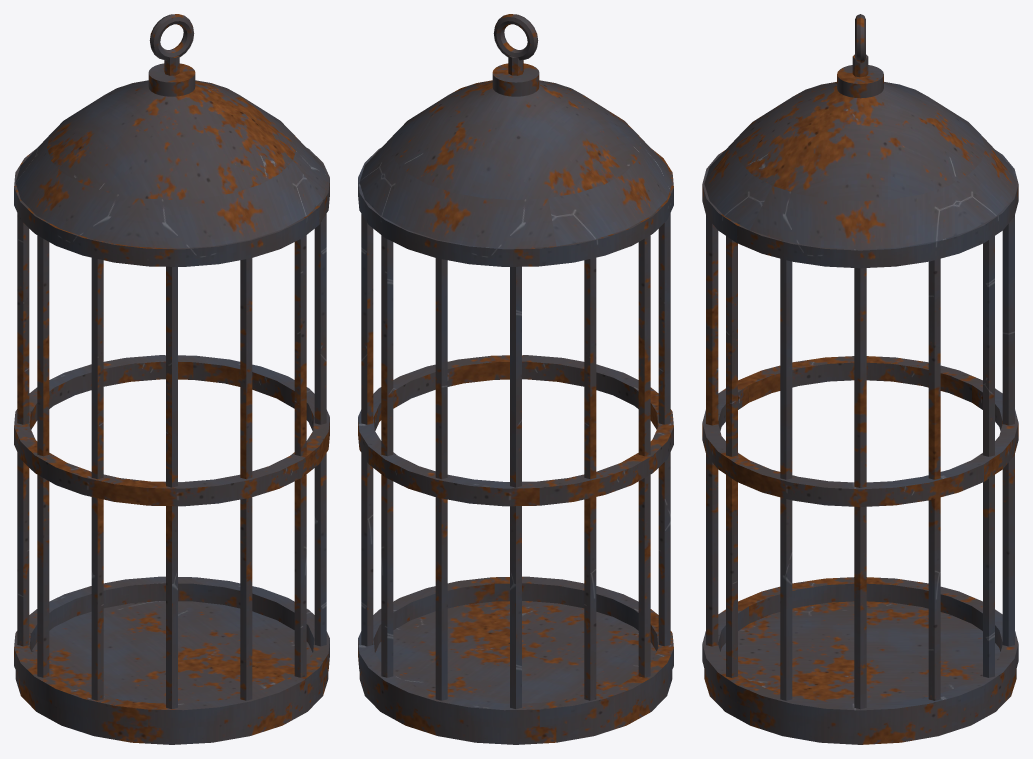
Rendered from Cage.glb.
3 renders of one model, left to right at view 1: azimuth 30°, elevation 25°; view 2: azimuth 150°, elevation 25°; view 3: azimuth 270°, elevation 25°, orthographic.
Visible parts, largest first — view 1: Cage; view 2: Cage; view 3: Cage.
Boxes of the visible parts, <box> form: Cage: <box>14,14,329,744</box>; Cage: <box>358,14,673,744</box>; Cage: <box>702,14,1018,744</box>.
Size of the model in its own units: 0.81 by 1.87 by 0.81.
Materials: 1 (1 with a texture image).
